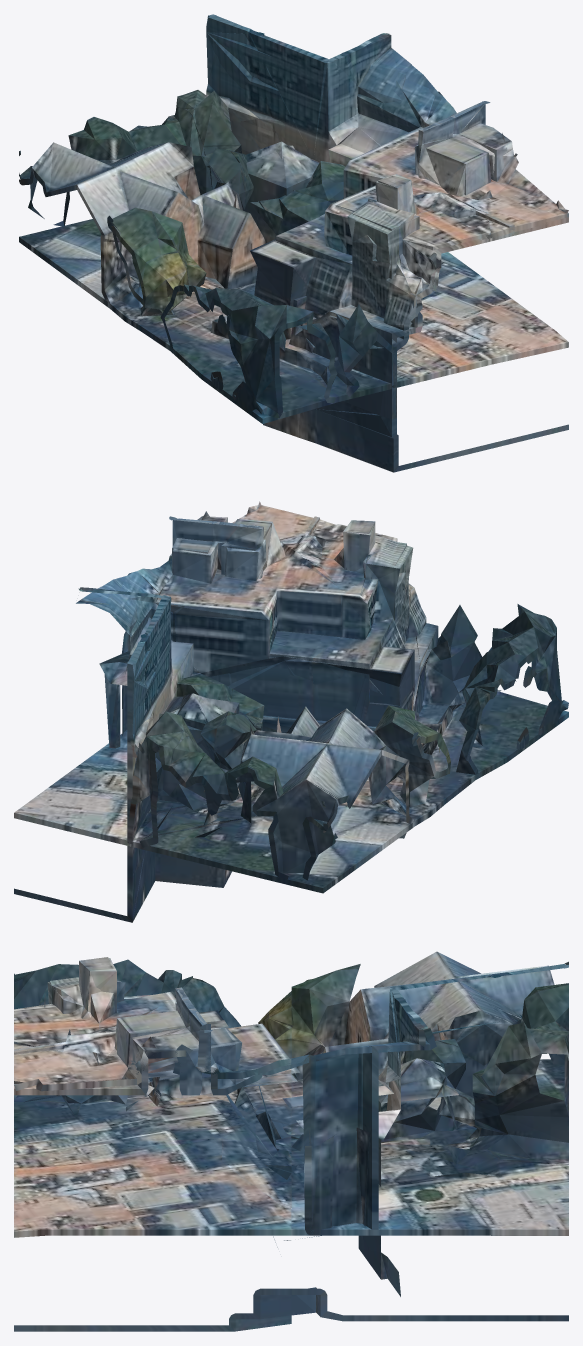
Rendered from chunk_-3_3.glb.
3 renders of one model, top to bottom at view 1: azimuth 30°, elevation 25°; view 2: azimuth 150°, elevation 25°; view 3: azimuth 270°, elevation 25°, orthographic. The views are drawn at different scales.
Parts seen in each view (by area): view 1: hero-chunk; view 2: hero-chunk; view 3: hero-chunk.
Boxes of the visible parts, box(x1,y1,x2,y2) form: hero-chunk: box(19, 14, 568, 472); hero-chunk: box(14, 501, 568, 922); hero-chunk: box(14, 951, 568, 1331).
Bounding box in the file's own units: 57.27 × 46.68 × 76.32.
2 materials, 2 textured.
